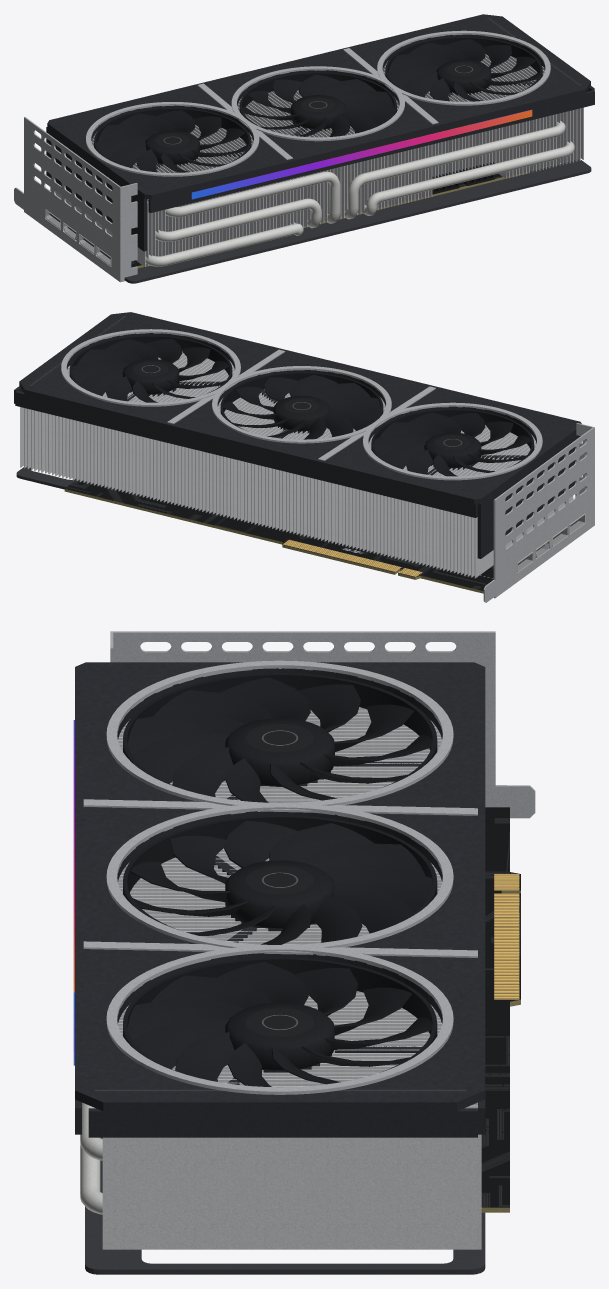
File: gpu.glb
The picture shows the model from 3 angles, top to bottom: view 1: azimuth 30°, elevation 25°; view 2: azimuth 150°, elevation 25°; view 3: azimuth 270°, elevation 25°; orthographic projection. The views are drawn at different scales.
Parts seen in each view (by area): view 1: Shroud, Heatsink fin stack, Heat pipes (nickel-plated copper), Slot bracket, Brushed aluminium accents, Backplate, Fan 3 blades, Fan 1 blades, Fan 2 blades, RGB light strip, Fan 2 hub, Fan 1 hub (+4 smaller); view 2: Heatsink fin stack, Shroud, Slot bracket, Brushed aluminium accents, Printed circuit board, Fan 1 blades, Fan 3 blades, Fan 2 blades, Fan 1 hub, Fan 2 hub, Fan 3 hub, Gold-finger contacts (x16) (+2 smaller); view 3: Shroud, Heatsink fin stack, Brushed aluminium accents, Fan 3 blades, Fan 1 blades, Fan 2 blades, Slot bracket, Printed circuit board, Backplate, Fan 2 hub, Fan 1 hub, Fan 3 hub (+2 smaller).
Part boxes in pixels (x1,y1,x2,y2): Shroud: (46,14,594,251); Heatsink fin stack: (50,54,583,266); Heat pipes (nickel-plated copper): (145,121,574,266); Slot bracket: (14,117,137,282); Brushed aluminium accents: (86,30,550,176); Backplate: (124,159,591,283); Fan 3 blades: (385,37,542,101); Fan 1 blades: (94,108,251,172); Fan 2 blades: (239,72,396,136); RGB light strip: (191,109,532,199); Fan 2 hub: (291,95,345,128); Fan 1 hub: (145,130,199,164); Heatsink fin stack: (20,351,573,578); Shroud: (14,312,581,558); Slot bracket: (483,423,594,602); Brushed aluminium accents: (61,329,542,480); Printed circuit board: (64,479,569,593); Fan 1 blades: (371,409,534,476); Fan 3 blades: (69,335,232,402); Fan 2 blades: (220,372,383,439); Fan 1 hub: (424,432,481,467); Fan 2 hub: (273,395,330,430); Fan 3 hub: (122,359,179,394); Gold-finger contacts (x16): (283,540,421,576); Shroud: (75,662,485,1137); Heatsink fin stack: (102,707,481,1249); Brushed aluminium accents: (83,660,477,1094); Fan 3 blades: (123,957,437,1086); Fan 1 blades: (123,673,437,802); Fan 2 blades: (123,815,437,944); Slot bracket: (110,631,535,818); Printed circuit board: (481,807,520,1212); Backplate: (85,1137,485,1274); Fan 2 hub: (225,860,334,928); Fan 1 hub: (225,718,334,786); Fan 3 hub: (225,1002,334,1070).
Bounding box in the file's own units: 0.3059 × 0.0591 × 0.1304.
18 materials, 18 textured.
